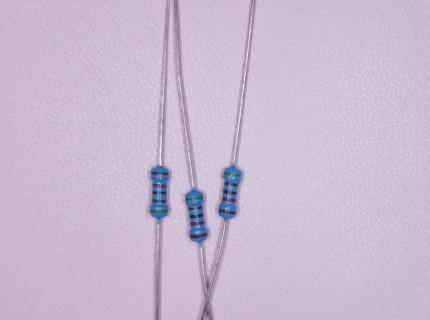Black band: (189, 212, 204, 220), (223, 189, 237, 196), (152, 191, 166, 196)
Brown band: (218, 208, 237, 216), (189, 232, 208, 240), (188, 205, 204, 211), (151, 171, 169, 176), (224, 182, 238, 188), (152, 199, 166, 204)
Green band: (223, 171, 242, 178), (185, 196, 204, 202), (150, 209, 168, 213)
Red band: (190, 221, 205, 227), (222, 197, 236, 203), (152, 184, 167, 189)
